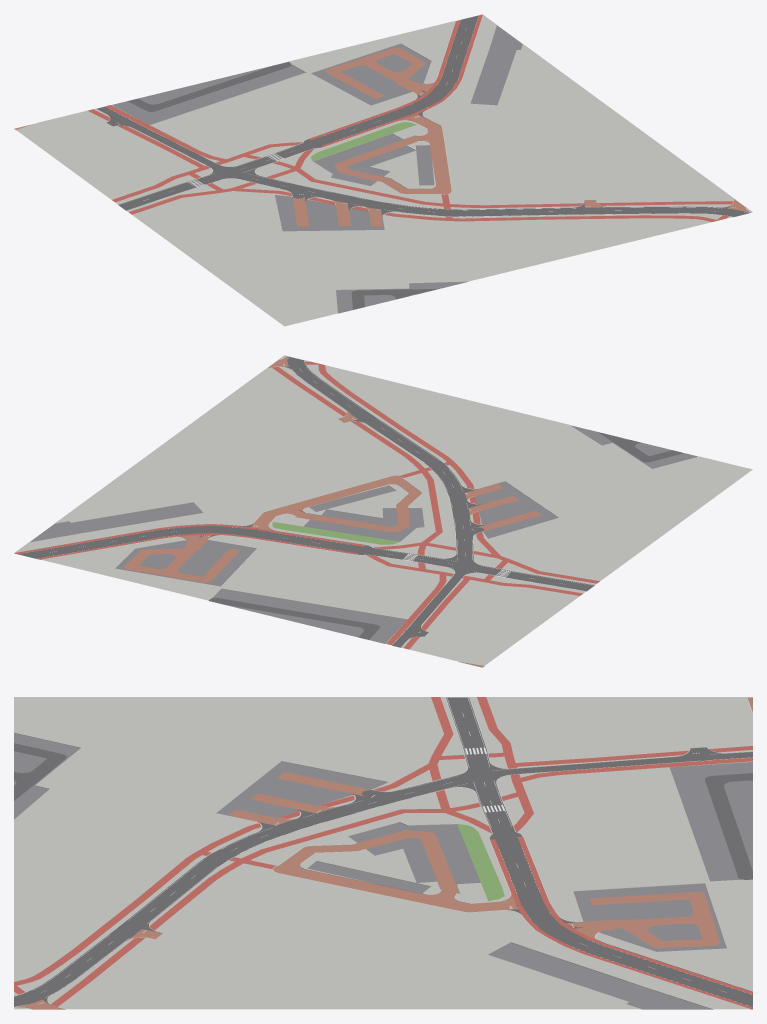
File: ground_10_7.glb
3 views of the same model, one above another, from view 1: azimuth 30°, elevation 25°; view 2: azimuth 150°, elevation 25°; view 3: azimuth 270°, elevation 25° (orthographic). The views are drawn at different scales.
Parts seen in each view (by area): view 1: ground_10_7; view 2: ground_10_7; view 3: ground_10_7.
Part boxes in pixels (x1=…): ground_10_7: x1=14, y1=14, x2=752, y2=326; ground_10_7: x1=14, y1=355, x2=752, y2=667; ground_10_7: x1=14, y1=696, x2=752, y2=1009.
Bounding box in the file's own units: 201 × 0.12 × 200.
